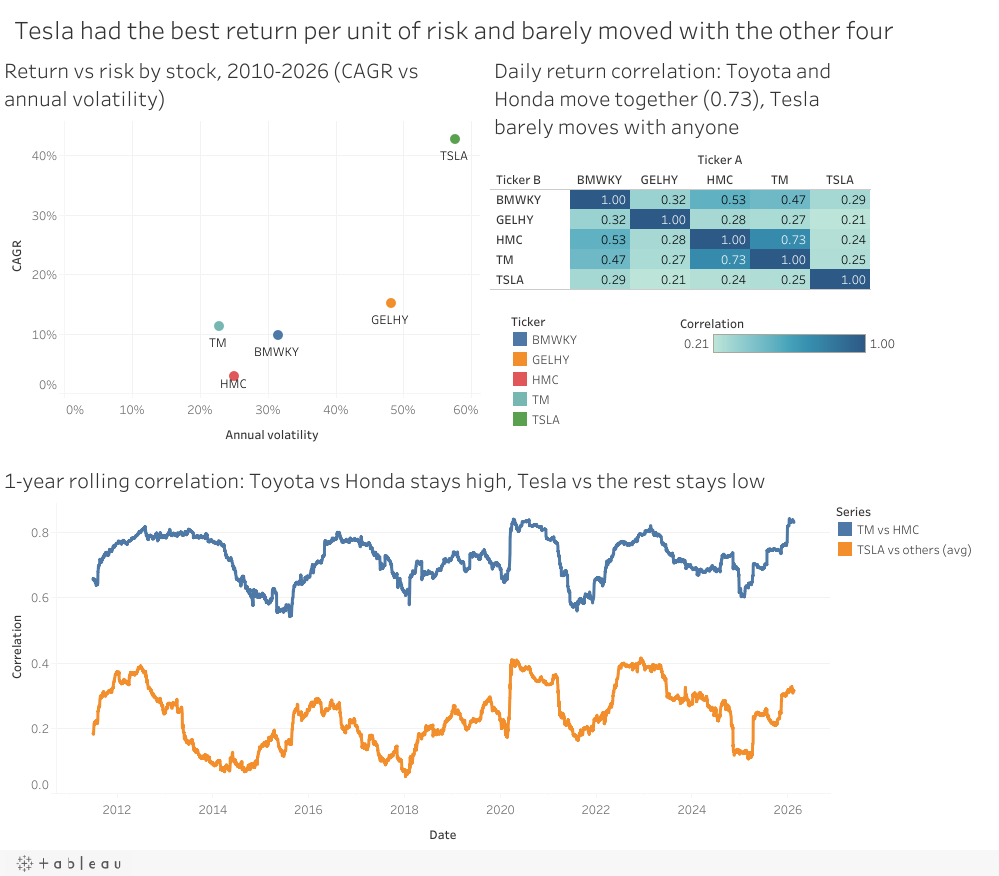

The dashboard page shown, as its layout file describes it:
{"tool":"tableau","page":{"name":"Stock Risk Profile","canvas":[1000,800],"ordinal":2},"visuals":[{"type":"worksheet","title":"Sheet 7","mark":"Circle","rows":["CAGR"],"cols":["Vol"],"box":[0,0,480,400]},{"type":"worksheet","title":"Sheet 8","mark":"Square","rows":["Ticker_B"],"cols":["Ticker_A"],"box":[490,0,510,400]},{"type":"legend","title":"Sheet 7","param":"[federated.120cagj1nr4wf31eag79l072fja2].[none:Ticker:nk]","box":[510,260,140,119]},{"type":"legend","title":"Sheet 8","param":"[federated.0atyadu02csqss1gfswp81ra0ecf].[sum:Correlation:qk]","box":[680,260,220,80]},{"type":"worksheet","title":"Sheet 9","mark":"Automatic","rows":["Value"],"cols":["Calculation_0014627128979588"],"box":[0,410,830,390]},{"type":"legend","title":"Sheet 9","param":"[federated.0yef01k1qg0po61emz2wd1vf4hd8].[none:Series:nk]","box":[835,450,165,59]}]}

Visuals, with their boxes on the page's 1000x800 design canvas (x1, y1, x2, y2). These are canvas units, not pixel positions in the 999x876 screenshot, which may show the page scaled, cropped or inside an application window:
"Sheet 7" worksheet (Circle marks): l=0, t=0, r=480, b=400
"Sheet 8" worksheet (Square marks): l=490, t=0, r=1000, b=400
"Sheet 7" legend: l=510, t=260, r=650, b=379
"Sheet 8" legend: l=680, t=260, r=900, b=340
"Sheet 9" worksheet: l=0, t=410, r=830, b=800
"Sheet 9" legend: l=835, t=450, r=1000, b=509
